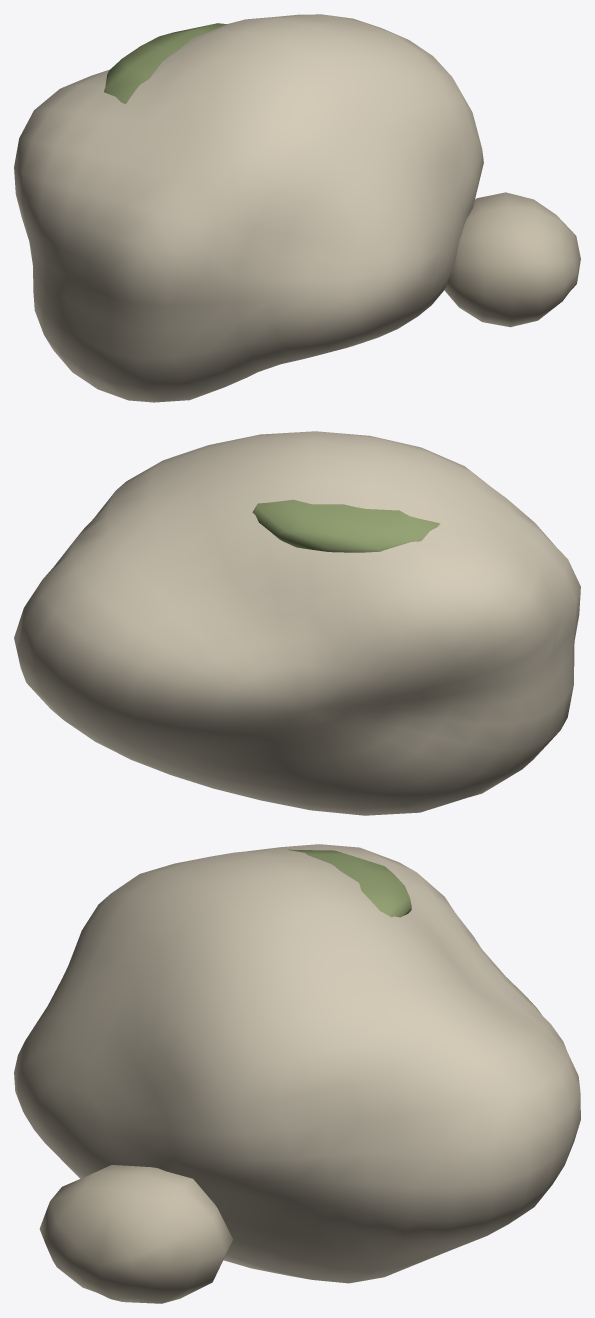
The model's file is rock-hd.glb.
The picture shows the model from 3 angles, top to bottom: view 1: azimuth 30°, elevation 25°; view 2: azimuth 150°, elevation 25°; view 3: azimuth 270°, elevation 25°; orthographic projection. The views are drawn at different scales.
Parts seen in each view (by area): view 1: rock-hd; view 2: rock-hd; view 3: rock-hd.
Part boxes in pixels (left/top/right/bottom): rock-hd: left=14, top=14, right=580, bottom=402; rock-hd: left=14, top=431, right=580, bottom=815; rock-hd: left=14, top=844, right=580, bottom=1303.
Bounding box in the file's own units: 2.74 × 1.79 × 2.48.
